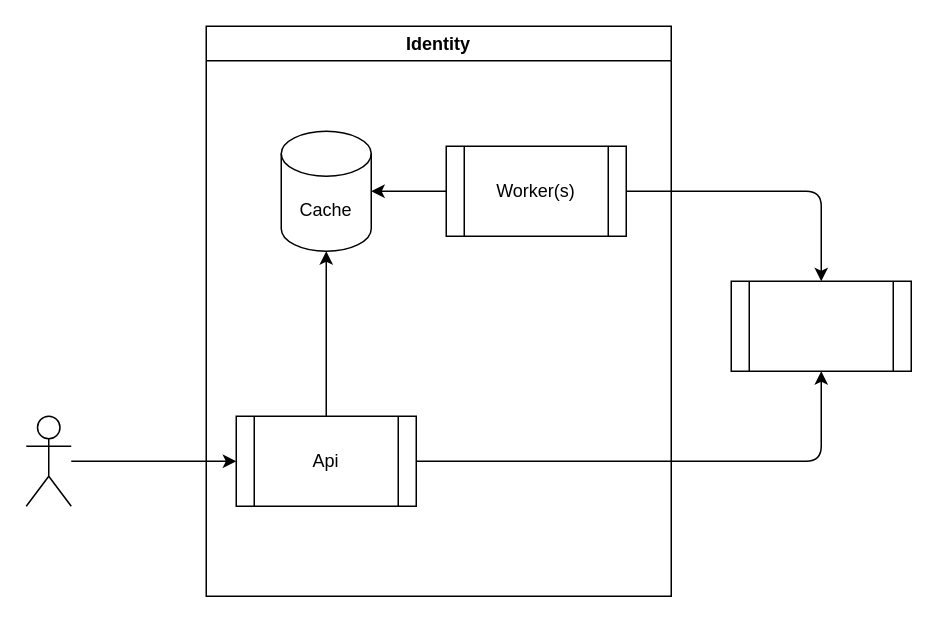
Image size: 938x623. Some labels were removed from this diagram. The shapes that lost their labels are listed below. From the top down, each one's centre as x and y in pixels, then its label:
the point at 820,325: External Service(s) or DB(s)
the point at 48,460: User
